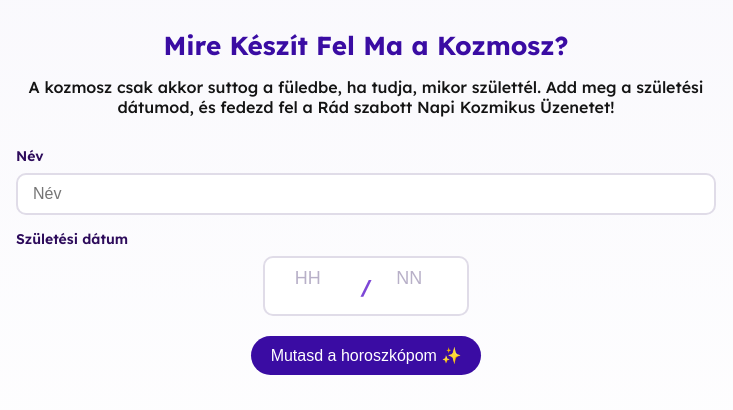
Test: HoroscopeGenerator › validates inputs and shows error when missing
The width and height of the screenshot is (733, 410).
Click the button "Mutasd a horoszkópom ✨" at x=366, y=356, box [251,336,481,375]
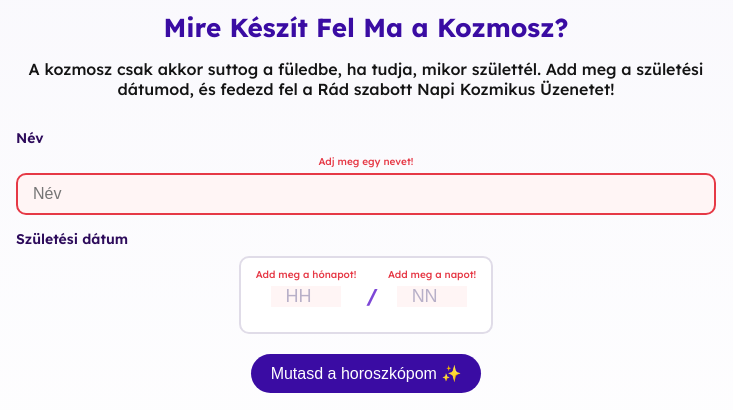
Now the text "Adj meg egy nevet!" is shown, box [319,155,413,168]
